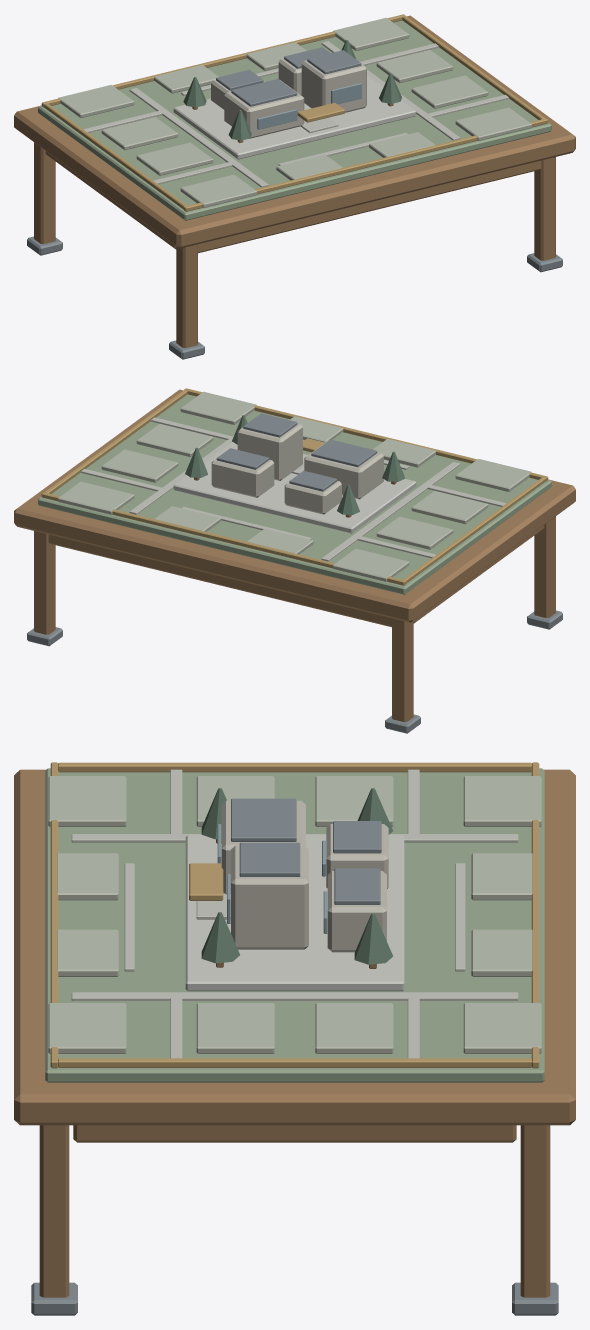
Rendered from 0-20261016-1900-ev039-r07-floor4-townmaptable.fbx.
3 renders of one model, top to bottom at view 1: azimuth 30°, elevation 25°; view 2: azimuth 150°, elevation 25°; view 3: azimuth 270°, elevation 25°, orthographic. The views are drawn at different scales.
Parts seen in each view (by area): view 1: SW_Leasing_TownMapTable; view 2: SW_Leasing_TownMapTable; view 3: SW_Leasing_TownMapTable.
Part boxes in pixels (x1,y1,x2,y2): SW_Leasing_TownMapTable: (14, 14, 575, 359); SW_Leasing_TownMapTable: (14, 388, 575, 733); SW_Leasing_TownMapTable: (14, 762, 575, 1315).
Bounding box in the file's own units: 250 × 116 × 180.
